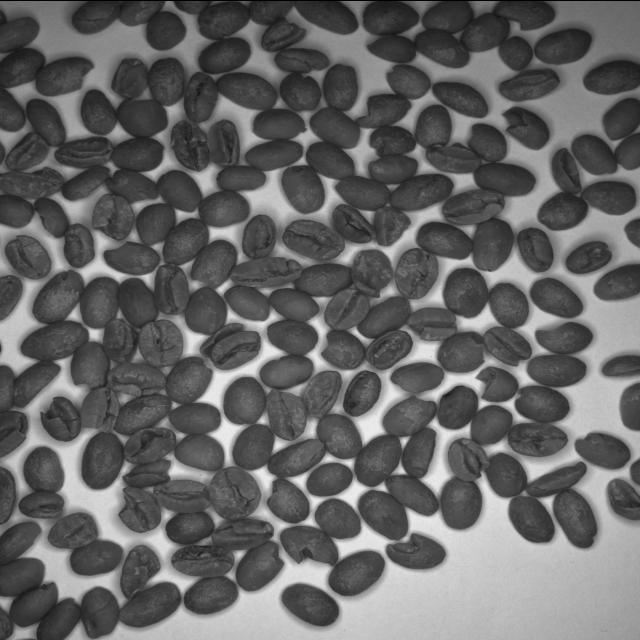bad: (28, 266, 86, 324), (550, 487, 601, 550), (206, 464, 260, 522), (107, 390, 173, 436), (18, 319, 90, 361), (278, 217, 346, 261), (264, 436, 328, 479), (377, 393, 439, 437), (163, 354, 216, 404), (33, 55, 96, 97), (382, 531, 448, 571), (188, 236, 240, 286), (276, 164, 328, 214), (12, 359, 64, 408), (136, 317, 184, 370), (230, 255, 304, 289), (236, 540, 284, 592), (348, 246, 396, 298), (512, 384, 574, 424), (393, 247, 440, 299), (440, 188, 506, 225), (524, 460, 588, 498), (166, 118, 211, 172), (10, 580, 60, 628), (120, 424, 180, 464), (278, 524, 338, 564), (166, 543, 236, 577), (77, 275, 121, 329), (496, 66, 562, 102), (433, 329, 487, 373), (506, 421, 570, 458), (479, 324, 534, 367), (572, 430, 630, 470), (116, 484, 162, 534), (118, 96, 170, 140), (264, 388, 308, 440), (258, 352, 318, 390), (352, 92, 412, 130), (578, 179, 638, 217), (120, 544, 162, 598), (2, 233, 50, 280), (502, 104, 552, 149), (100, 239, 162, 275), (106, 361, 168, 397), (532, 318, 594, 354), (265, 477, 311, 525), (300, 368, 344, 418), (68, 338, 110, 390), (364, 328, 416, 370), (52, 134, 116, 168), (81, 585, 121, 639), (208, 330, 262, 370), (434, 383, 480, 429), (90, 192, 135, 239), (35, 596, 83, 640), (77, 386, 121, 434), (210, 518, 276, 550), (445, 436, 489, 484), (150, 478, 212, 512), (386, 359, 446, 394), (0, 166, 65, 198), (150, 262, 190, 314), (182, 70, 222, 122), (400, 426, 440, 478), (102, 168, 158, 205), (490, 0, 559, 30), (341, 369, 384, 417), (39, 395, 81, 443), (68, 0, 124, 36), (422, 141, 482, 174), (514, 225, 556, 272), (463, 121, 511, 162), (0, 520, 43, 565), (4, 131, 51, 172), (59, 165, 112, 201), (328, 204, 374, 245), (380, 63, 432, 99), (413, 104, 452, 152), (405, 306, 457, 342), (240, 211, 278, 260), (100, 316, 138, 364), (365, 153, 421, 185), (362, 32, 417, 64), (564, 239, 614, 274), (474, 364, 520, 402), (365, 124, 417, 157), (548, 145, 582, 195), (279, 71, 321, 111), (120, 458, 172, 490), (32, 196, 71, 238), (0, 409, 32, 460), (259, 18, 307, 52), (273, 45, 331, 73), (111, 56, 149, 98), (208, 117, 240, 166), (198, 322, 244, 356), (604, 478, 640, 521), (64, 220, 96, 268), (372, 206, 410, 246), (16, 489, 66, 519), (598, 349, 640, 380), (0, 274, 24, 321), (0, 464, 16, 524)
good: (117, 580, 183, 626), (325, 549, 387, 597), (354, 488, 410, 540), (351, 432, 403, 488), (278, 582, 342, 626), (439, 265, 489, 321), (526, 274, 584, 322), (80, 431, 126, 489), (387, 172, 457, 210), (306, 104, 362, 151), (470, 215, 515, 272), (412, 218, 476, 258), (354, 294, 412, 338), (412, 28, 474, 68), (506, 494, 556, 543), (220, 375, 268, 426), (314, 412, 365, 460), (158, 217, 210, 264), (294, 0, 360, 37), (182, 574, 240, 616), (193, 186, 251, 228), (214, 71, 278, 109), (428, 80, 488, 120), (469, 162, 539, 196), (522, 352, 588, 388), (438, 476, 482, 530), (194, 34, 254, 73), (192, 1, 255, 38), (580, 58, 640, 96), (183, 286, 228, 336), (322, 286, 372, 331), (116, 276, 160, 327), (66, 538, 125, 576), (172, 432, 228, 472), (294, 260, 356, 296), (459, 11, 512, 53), (157, 168, 205, 214), (484, 280, 530, 328), (21, 445, 65, 495), (534, 27, 594, 63), (332, 175, 392, 211), (534, 192, 588, 232), (24, 97, 66, 148), (360, 0, 421, 35), (482, 452, 528, 498), (0, 46, 48, 90), (568, 132, 616, 176), (243, 137, 305, 171), (318, 328, 367, 371), (248, 106, 306, 142), (468, 402, 514, 447), (232, 422, 276, 469), (304, 140, 355, 180), (77, 88, 119, 136), (110, 136, 166, 172), (264, 318, 320, 354), (312, 497, 361, 538), (319, 61, 359, 111), (45, 511, 99, 548), (147, 55, 186, 106), (419, 0, 475, 35), (266, 286, 320, 322), (134, 202, 178, 246), (167, 400, 223, 434), (224, 285, 274, 323), (590, 262, 640, 300), (303, 461, 355, 497), (0, 556, 46, 596), (162, 510, 215, 544), (142, 9, 186, 49), (601, 96, 640, 140), (0, 15, 40, 56), (213, 162, 267, 192), (116, 0, 170, 28), (496, 34, 534, 72), (614, 381, 640, 433), (246, 1, 296, 27), (0, 86, 27, 133), (0, 193, 35, 227), (612, 131, 640, 170), (0, 363, 18, 412)
